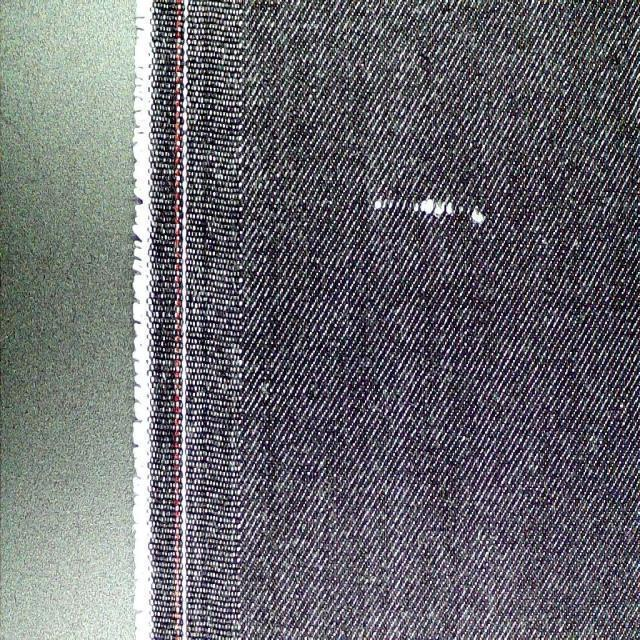pulled_or_thick_thread: (370, 199, 490, 228)
